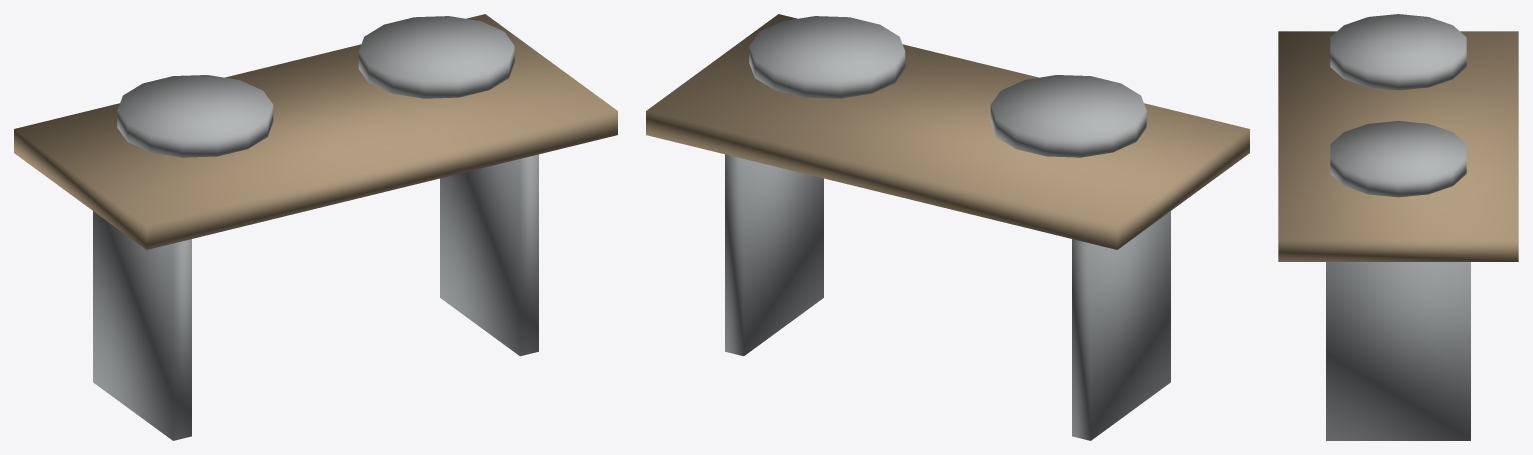
The model's file is projection_rewind_bench__squat.glb.
3 renders of one model, left to right at view 1: azimuth 30°, elevation 25°; view 2: azimuth 150°, elevation 25°; view 3: azimuth 270°, elevation 25°, orthographic. The views are drawn at different scales.
Parts seen in each view (by area): view 1: world; view 2: world; view 3: world.
Boxes of the visible parts, x1,y1,x2,y2 form: world: [14, 14, 617, 440]; world: [646, 14, 1249, 440]; world: [1278, 14, 1518, 440].
Bounding box in the file's own units: 1.38 × 0.8064 × 0.6696.
